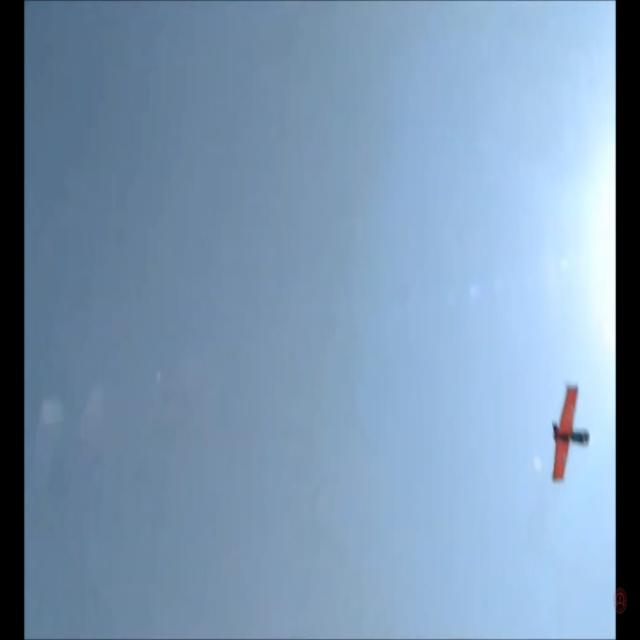iha: (547, 412, 591, 455)
